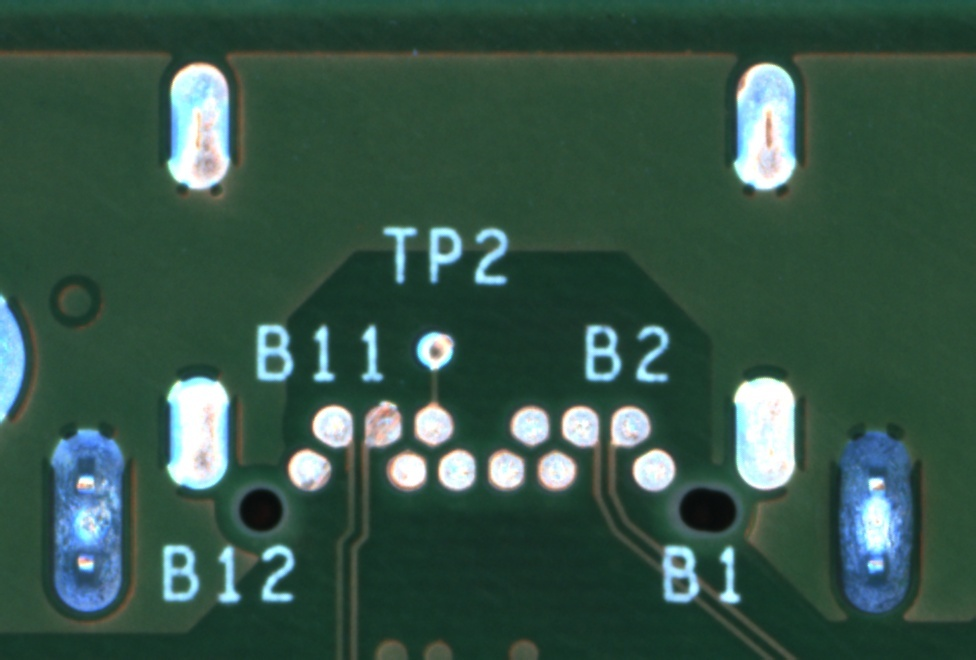SOLDER: (555, 399, 605, 450), (605, 400, 655, 451), (629, 444, 679, 495), (506, 399, 556, 450), (530, 445, 580, 496), (484, 445, 534, 496), (431, 444, 481, 495), (383, 445, 433, 496), (284, 445, 334, 496), (308, 400, 358, 451), (357, 399, 407, 450), (409, 397, 459, 448)
SOLDER2: (826, 417, 924, 621), (40, 421, 138, 625), (160, 54, 236, 210), (727, 357, 803, 513), (726, 50, 802, 206), (157, 355, 233, 511)
